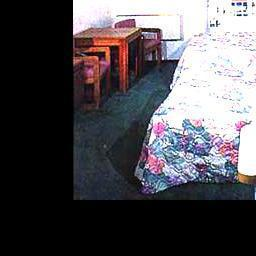Puerta: (207, 0, 256, 27)
